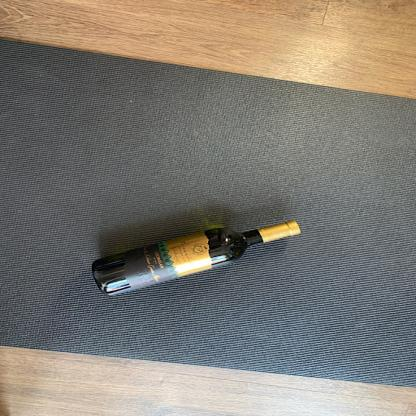trash: (89, 214, 303, 300)
